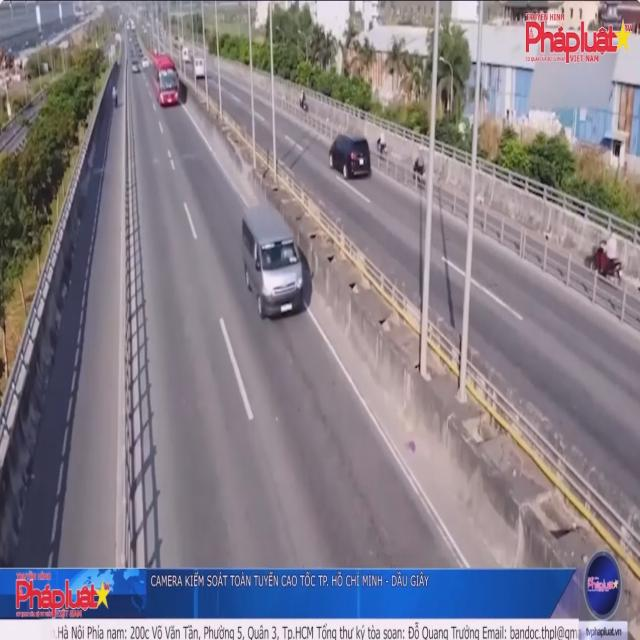bus: (156, 58, 180, 106)
car: (242, 214, 310, 322), (329, 135, 370, 182)
motorbike: (591, 227, 624, 285)
